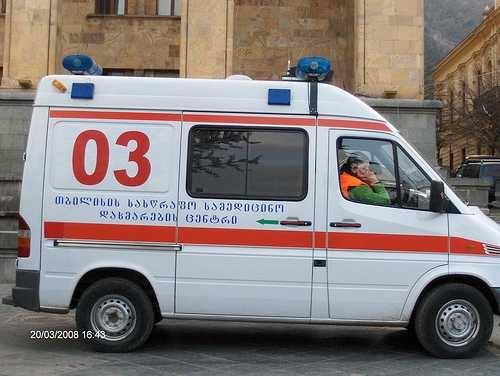car: (4, 56, 499, 358)
